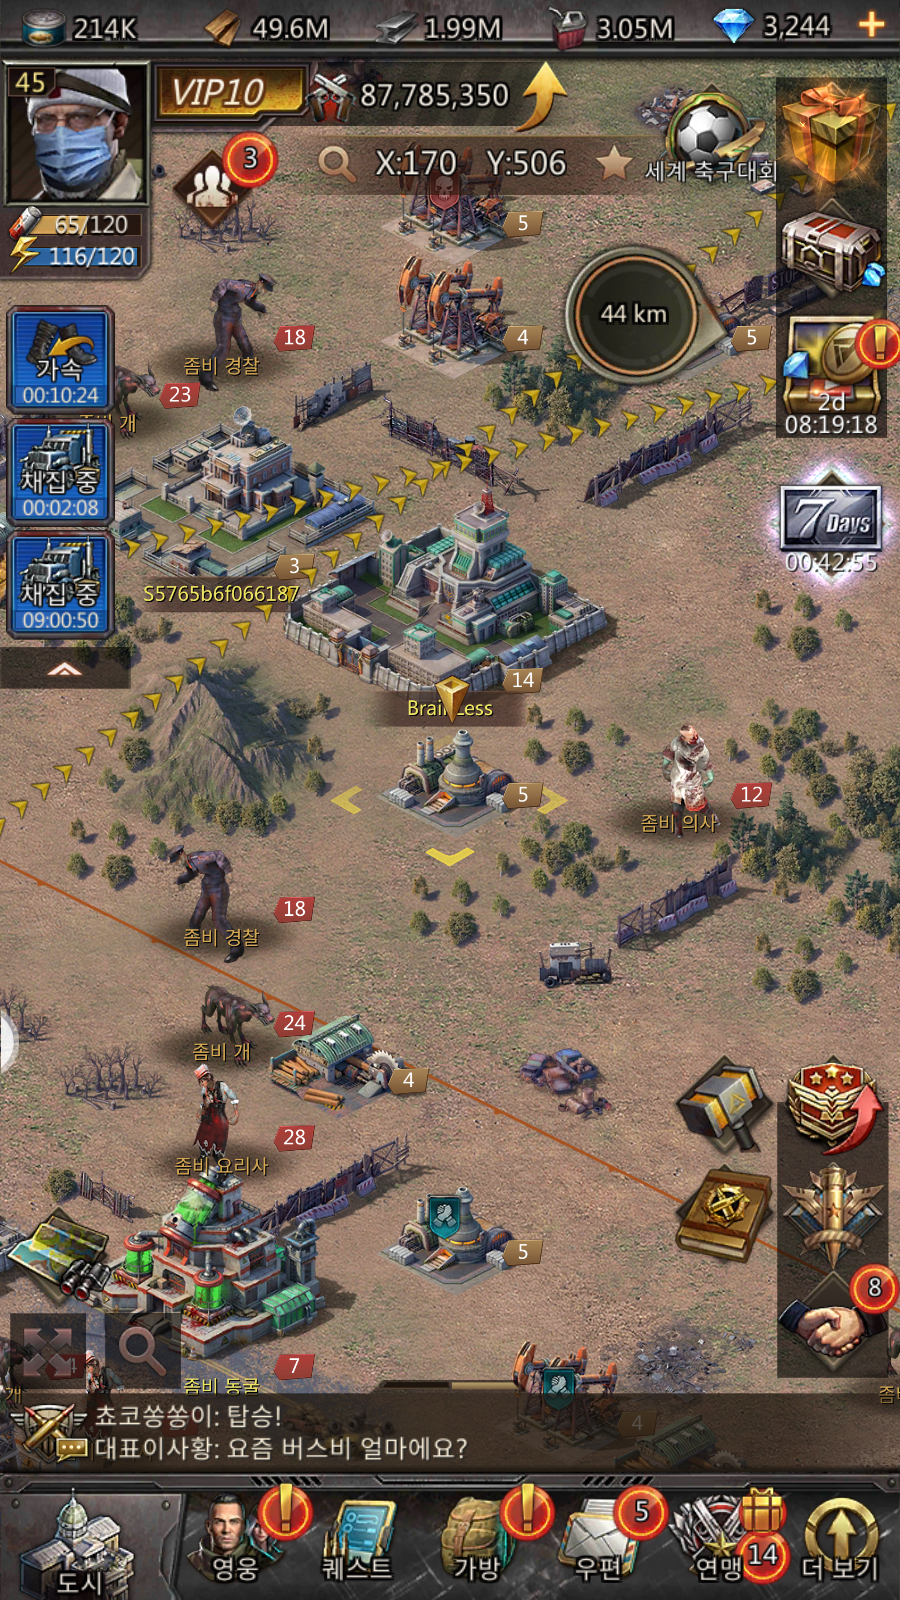city: (9, 1493, 188, 1600)
empty_steel: (315, 664, 589, 880)
open_panel: (102, 1307, 193, 1389)
troops_cnt_3: (169, 129, 287, 247)
